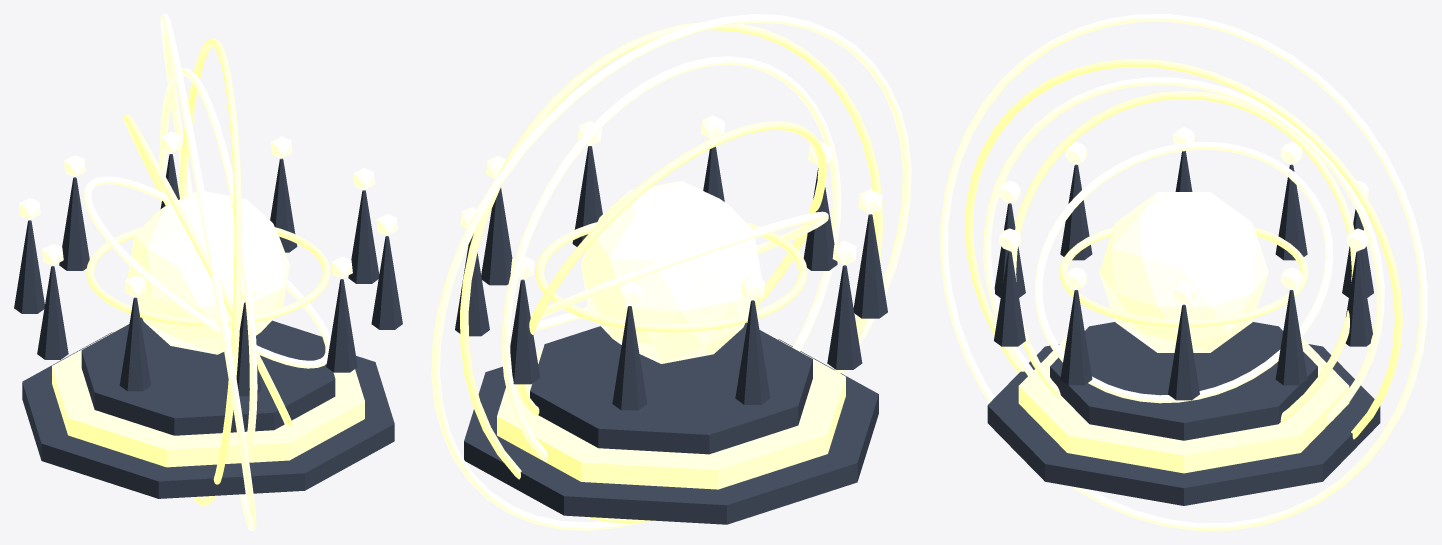
The model's file is gpu-blender-v19.glb.
The picture shows the model from 3 angles, left to right: view 1: azimuth 30°, elevation 25°; view 2: azimuth 150°, elevation 25°; view 3: azimuth 270°, elevation 25°; orthographic projection. The views are drawn at different scales.
Parts seen in each view (by area): view 1: Cylinder.002, Cylinder, SovereignCore_schema-illustrator-studio, Cylinder.001, Torus.005, Torus.004, Torus.001, Torus.003, Torus, Torus.002, Cone.006, Cone.008 (+7 smaller); view 2: Cylinder.002, SovereignCore_schema-illustrator-studio, Cylinder, Cylinder.001, Torus.005, Torus.003, Torus.004, Torus.002, Torus, Torus.001, Cone.003, Cone.004 (+8 smaller); view 3: SovereignCore_schema-illustrator-studio, Cylinder.002, Cylinder, Cylinder.001, Torus.005, Torus.004, Torus.003, Torus.001, Torus.002, Torus, Cone, Cone.001 (+7 smaller).
Boxes of the visible parts, x1,y1,x2,y2 form: Cylinder.002: (81, 317, 335, 435); Cylinder: (22, 332, 394, 498); SovereignCore_schema-illustrator-studio: (127, 191, 289, 354); Cylinder.001: (52, 324, 364, 467); Torus.005: (160, 14, 256, 530); Torus.004: (178, 38, 241, 506); Torus.001: (83, 176, 330, 368); Torus.003: (159, 68, 257, 458); Torus: (86, 227, 330, 326); Torus.002: (123, 114, 292, 425); Cone.006: (119, 297, 150, 391); Cone.008: (326, 279, 357, 372); Cylinder.002: (530, 322, 812, 454); SovereignCore_schema-illustrator-studio: (581, 181, 761, 363); Cylinder: (464, 339, 878, 524); Cylinder.001: (497, 330, 845, 489); Torus.005: (431, 14, 911, 530); Torus.003: (501, 56, 841, 461); Torus.004: (460, 22, 882, 523); Torus.002: (517, 121, 826, 415); Torus: (535, 222, 807, 332); Torus.001: (530, 211, 828, 330); Cone.003: (612, 306, 647, 410); Cone.004: (735, 300, 770, 404); SovereignCore_schema-illustrator-studio: (1099, 192, 1268, 352); Cylinder.002: (1050, 322, 1317, 440); Cylinder: (987, 344, 1380, 505); Cylinder.001: (1018, 336, 1349, 473); Torus.005: (940, 14, 1427, 530); Torus.004: (965, 59, 1402, 439); Torus.003: (983, 77, 1384, 423); Torus.001: (1034, 141, 1333, 403); Torus.002: (1010, 90, 1357, 423); Torus: (1059, 227, 1308, 327); Cone: (1168, 304, 1199, 400); Cone.001: (1275, 290, 1307, 385).
Size of the model in its own units: 4.41 by 5.93 by 5.46.
